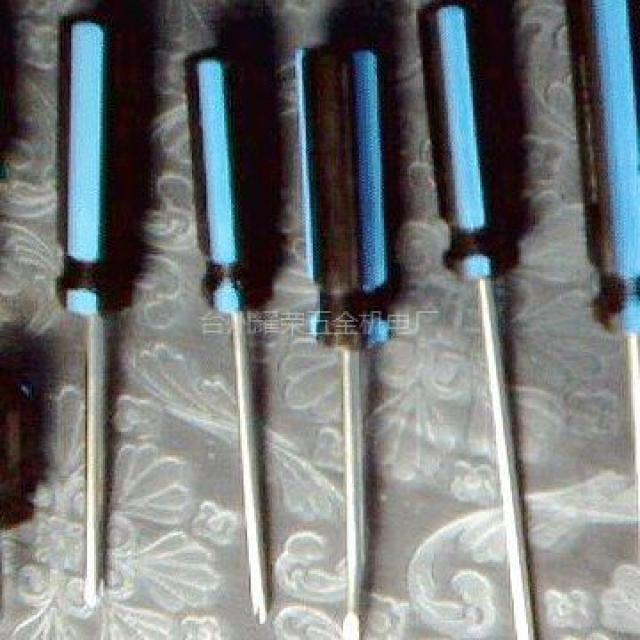screwdriver: (404, 0, 562, 640), (268, 34, 412, 640), (168, 34, 284, 638), (31, 4, 139, 624), (556, 0, 640, 532)
